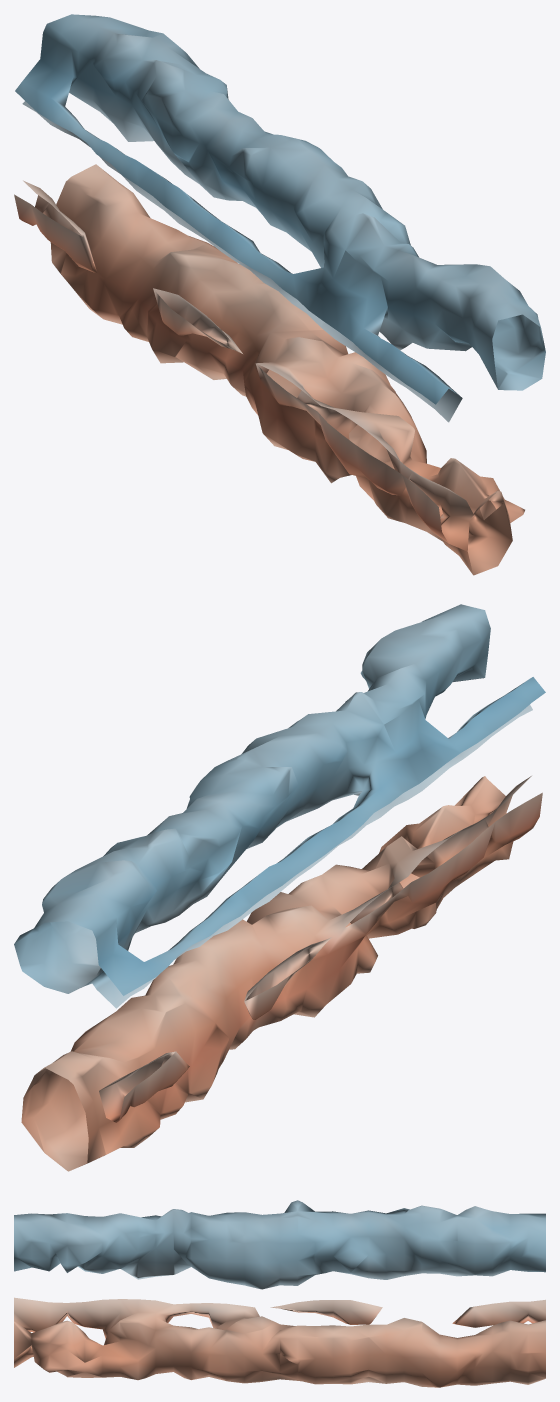
The picture shows the model from 3 angles, top to bottom: view 1: azimuth 30°, elevation 25°; view 2: azimuth 150°, elevation 25°; view 3: azimuth 270°, elevation 25°; orthographic projection. The views are drawn at different scales.
Size of the model in its own units: 0.4821 by 0.9202 by 2.5.
